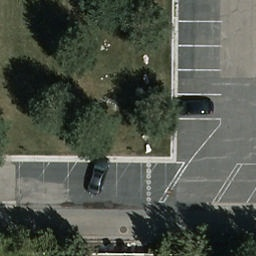car: (85, 156, 111, 195), (170, 96, 218, 115)
